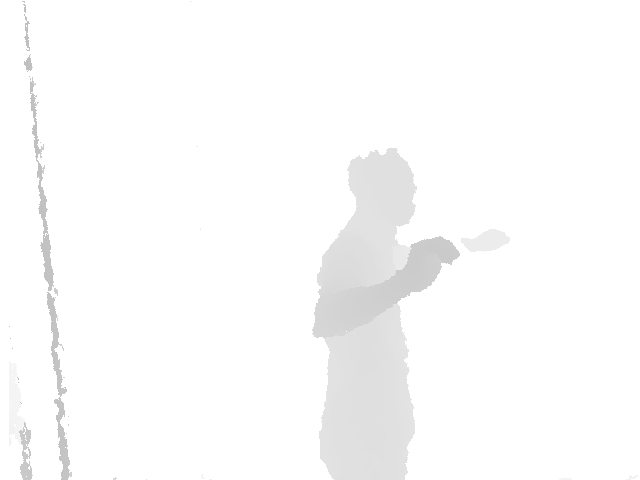head: (347, 147, 417, 230)
person: (312, 146, 511, 480)
